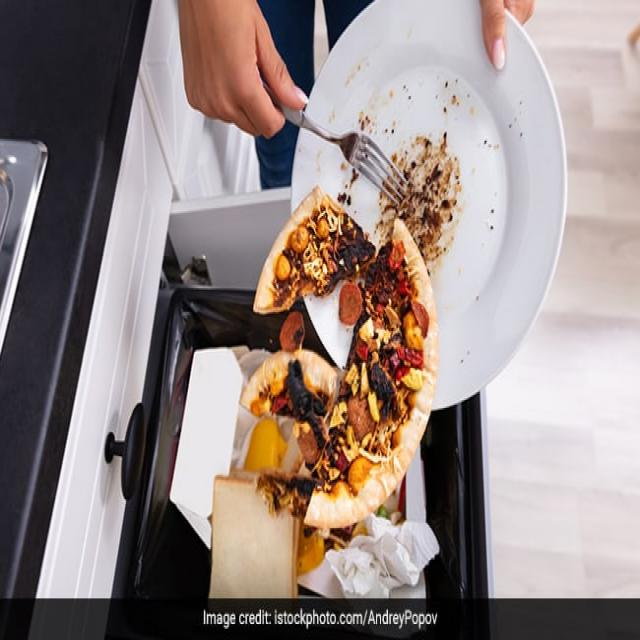Food -Biodegradable-: (199, 140, 456, 607)
